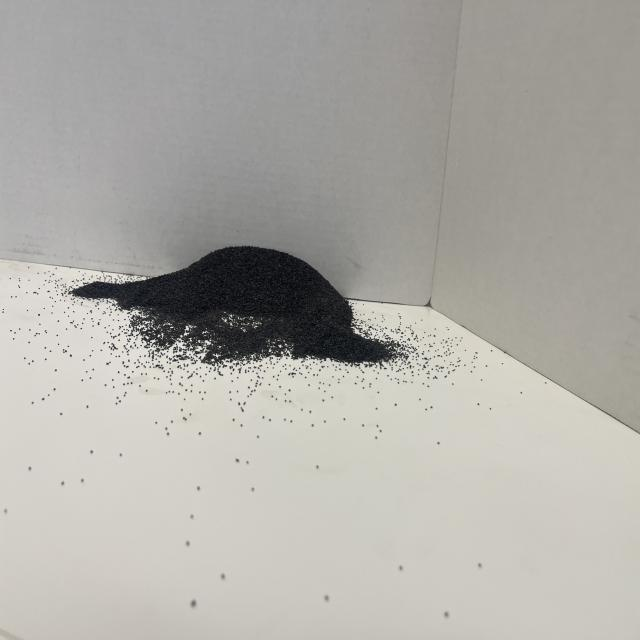Poppy Seeds: (106, 241, 390, 382)
